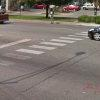Crosswalk: (4, 28, 88, 63)
